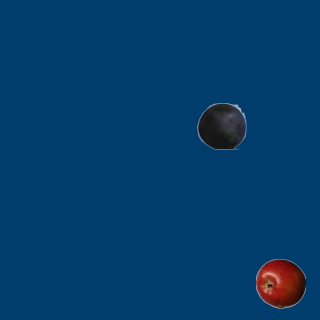Apple Braeburn: (255, 258, 305, 308)
Grape Blue: (196, 100, 246, 150)
